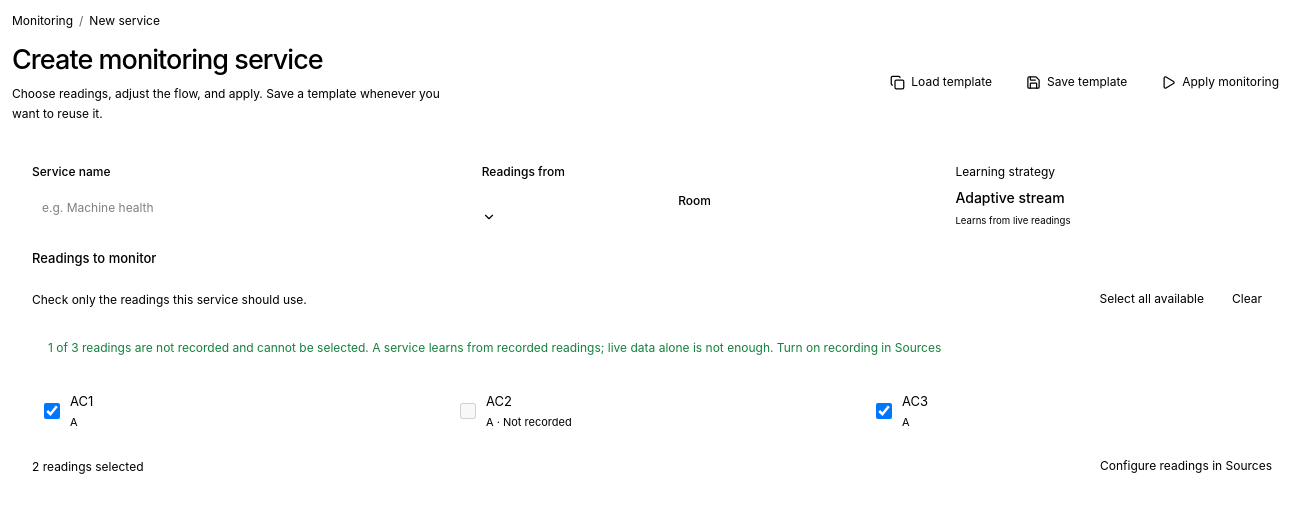
Test: simple monitoring setup › blocks an empty selection and excludes collection-off readings from Select all available
In the field labelled "Service name": (245, 208) x1=32 y1=187 x2=458 y2=229, type "Two phases"
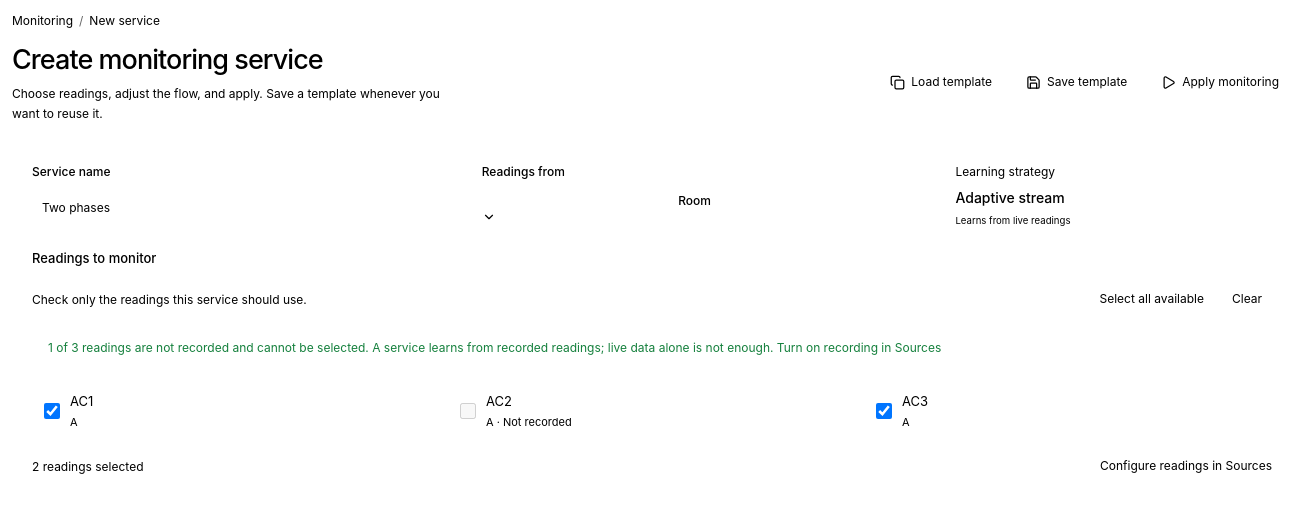
Expected: the checkbox named "Monitor AC2" is disabled, x1=460 y1=403 x2=476 y2=419
Click the button "Clear": (1247, 299) x1=1222 y1=284 x2=1272 y2=314
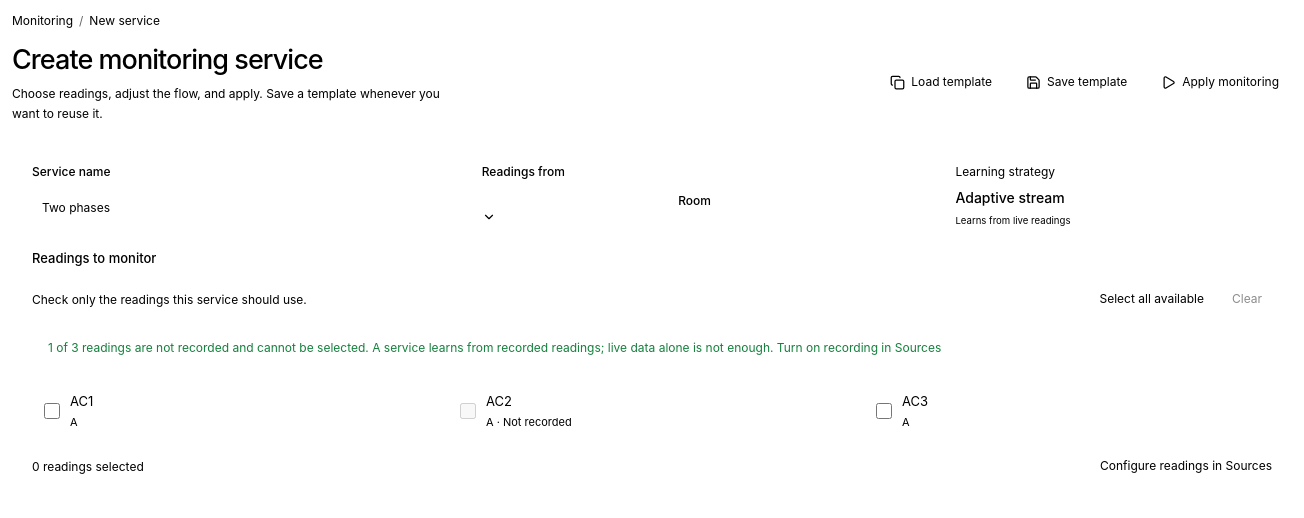
Click the button "Apply monitoring": (1220, 82) x1=1148 y1=63 x2=1292 y2=101
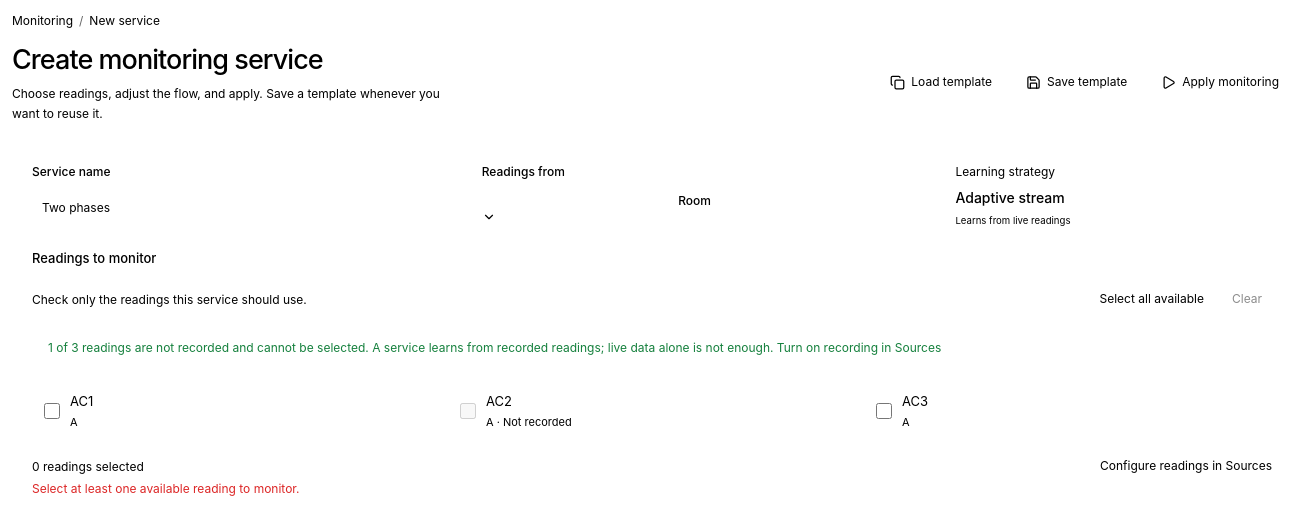
Now the text "Select at least one available reading to monitor." is shown, box x1=32 y1=481 x2=300 y2=496
Click the button "Select all available": (1152, 299) x1=1090 y1=284 x2=1214 y2=314
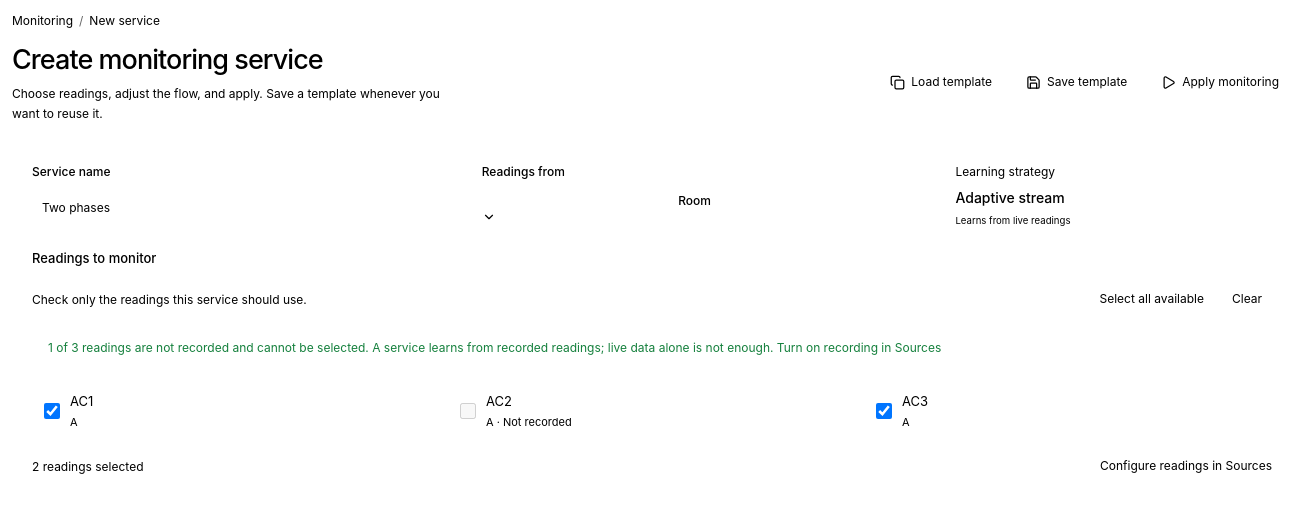
Now the text "2 readings selected" is shown, box x1=32 y1=456 x2=144 y2=476
